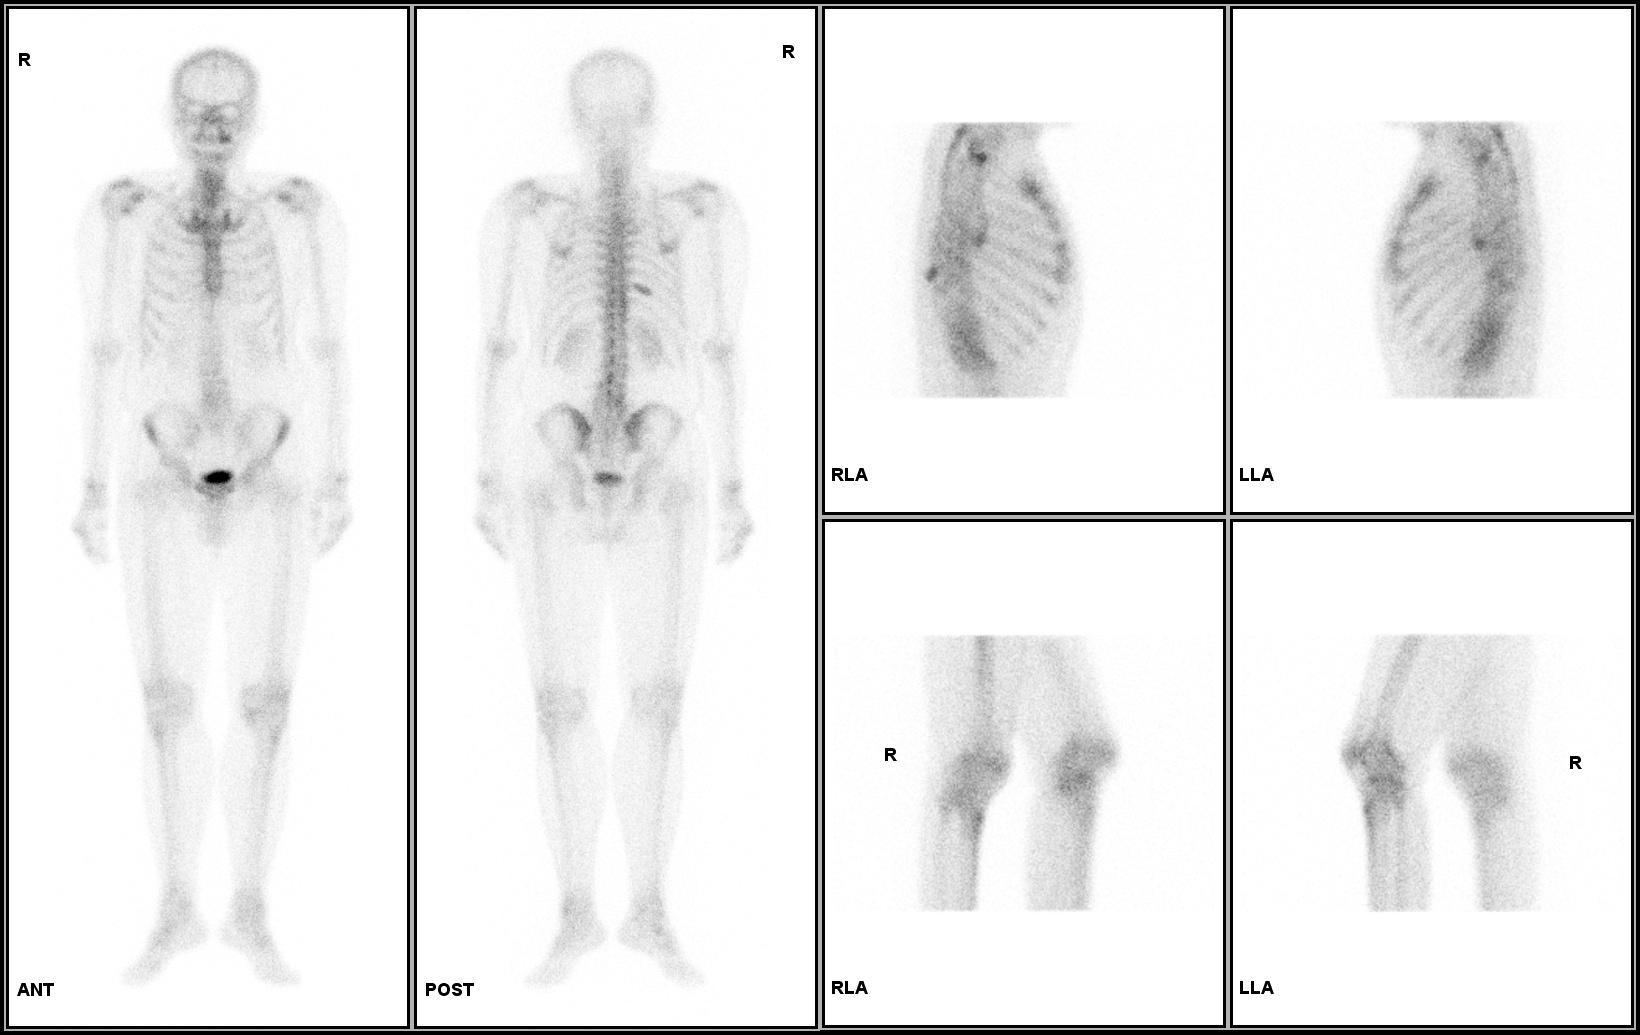person: (7, 6, 818, 1029)
